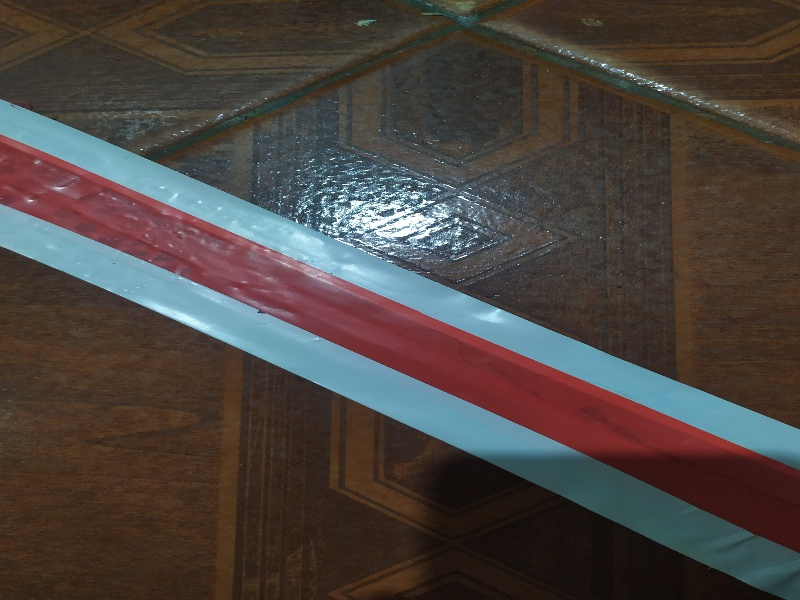saindoDireita: (1, 27, 792, 591)
